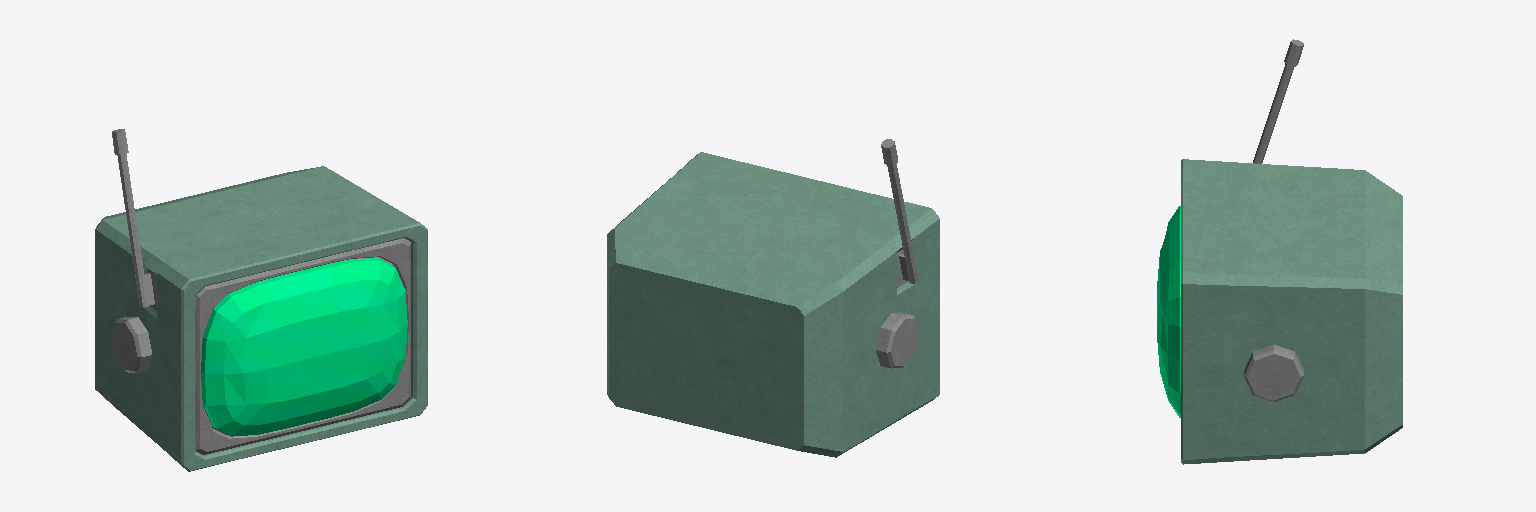
3 renders of one model, left to right at view 1: azimuth 30°, elevation 25°; view 2: azimuth 150°, elevation 25°; view 3: azimuth 270°, elevation 25°, orthographic.
Visible parts, largest first — view 1: head; view 2: head; view 3: head.
Boxes of the visible parts, box(x1,y1,x2,y2) form: head: box(95, 129, 427, 471); head: box(607, 139, 939, 457); head: box(1157, 39, 1402, 464).
Size of the model in its own units: 0.6584 by 0.7084 by 0.5188.
1 materials, 1 textured.